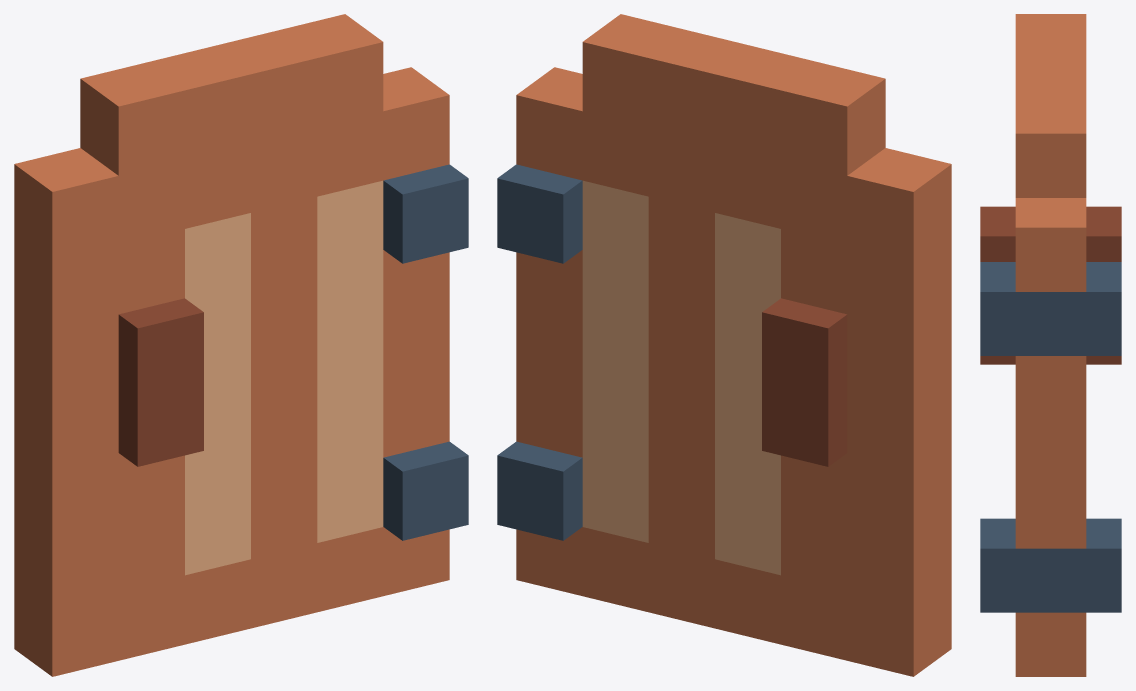
Rendered from wood-gate.obj.
3 renders of one model, left to right at view 1: azimuth 30°, elevation 25°; view 2: azimuth 150°, elevation 25°; view 3: azimuth 270°, elevation 25°, orthographic. The views are drawn at different scales.
Bounding box in the file's own units: 6 × 8 × 2.
Materials: 1 (1 with a texture image).
